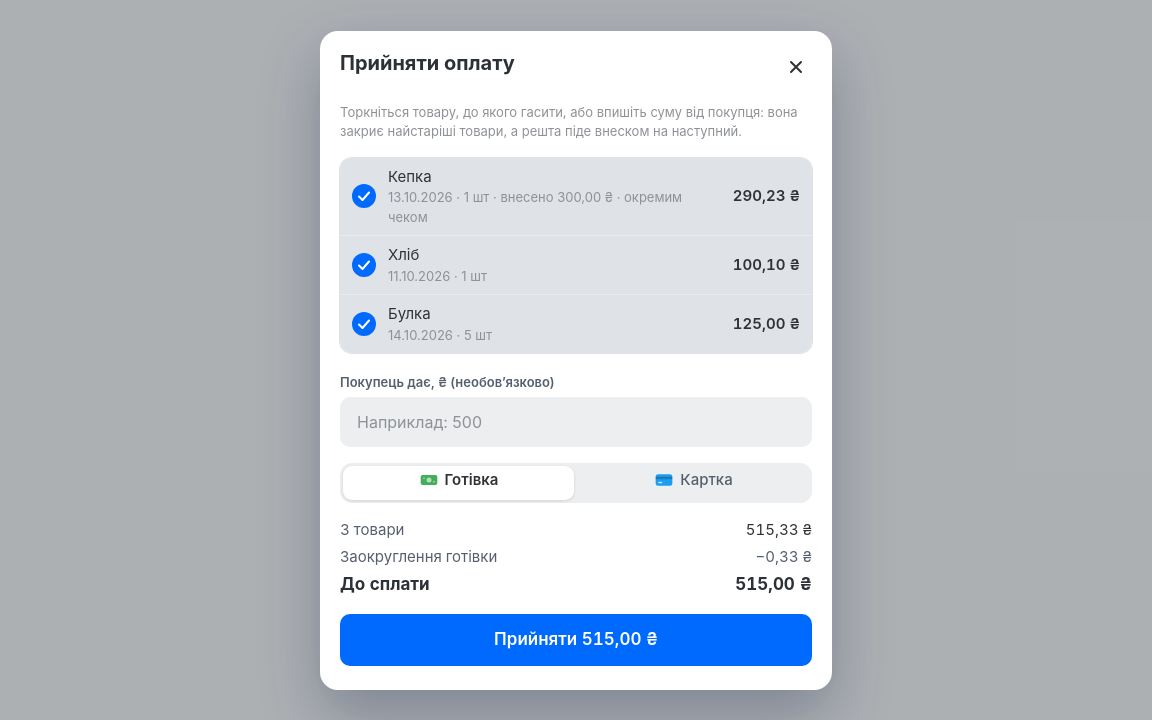
PaySheet in a store whose ПРРО keeps prepayment chains (G3_DEBTS.md §11 «Крок 2») › when one document of the sum stops, says what to hand back and offers the receipts that went through
This screenshot has width=1152, height=720.
Type "410" into the field with placeholder "Наприклад: 500" at (576, 422), box [340, 397, 812, 447]
(page scrolled)
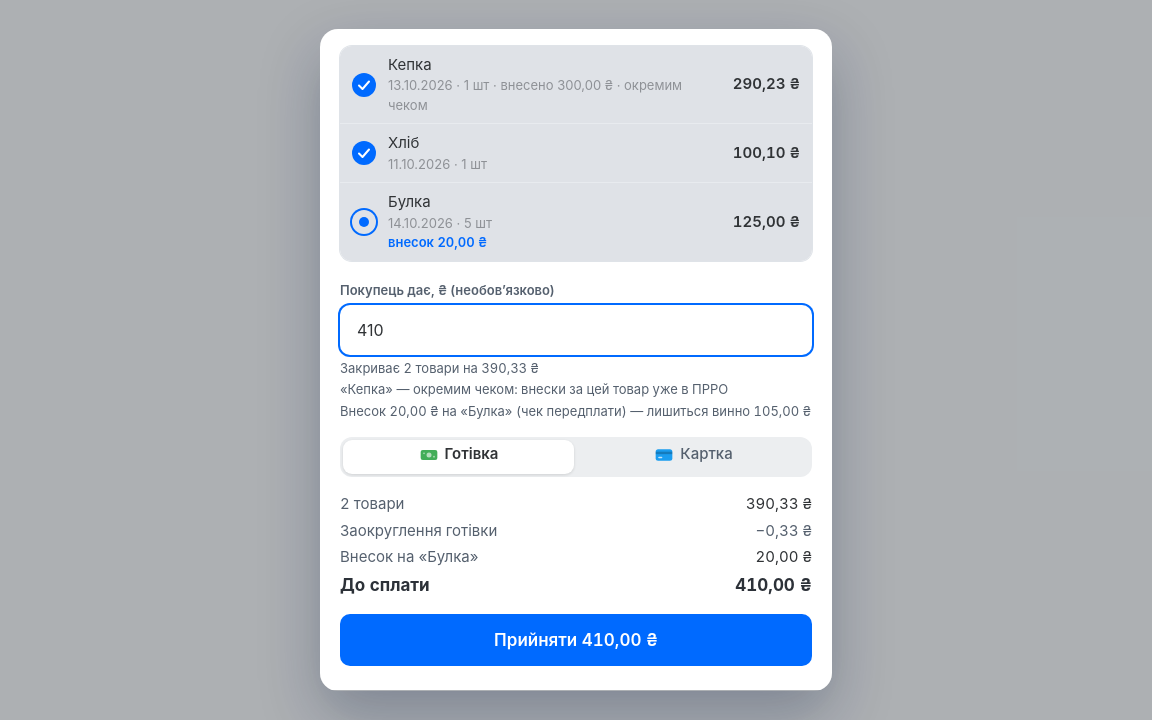
Click the button "Прийняти 410,00 ₴" at (576, 640), box [340, 614, 812, 666]
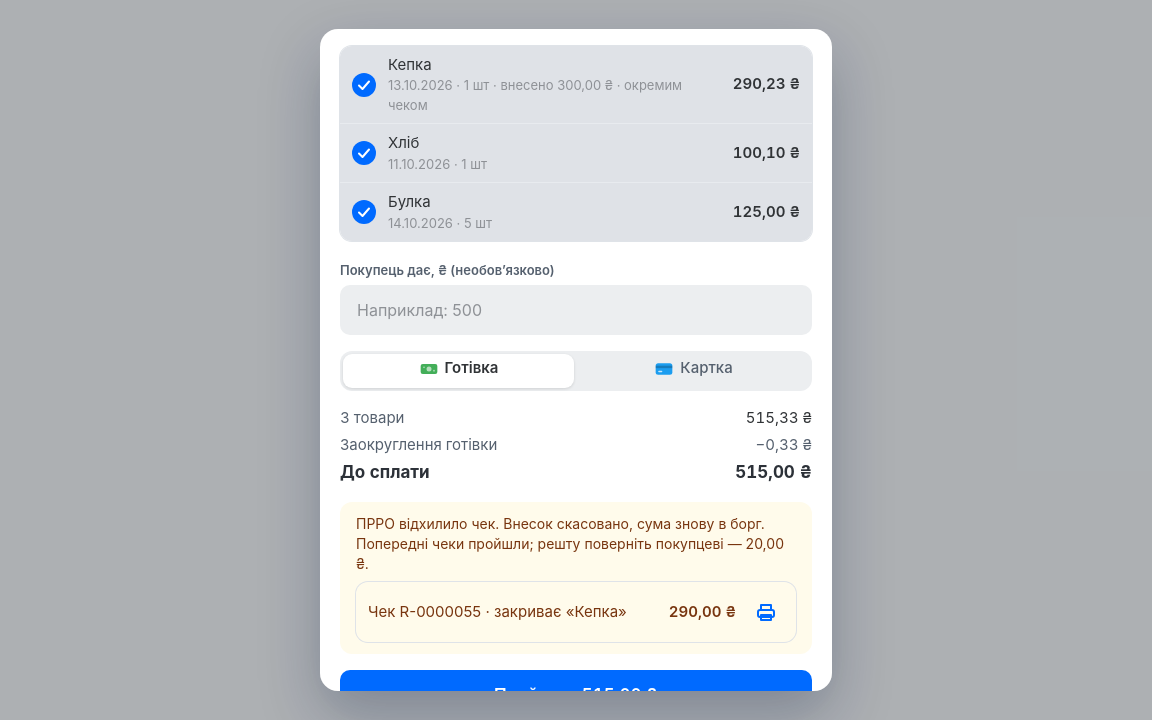
Expected: the message with test id "debts-pay-error" shows "решту поверніть покупцеві — 20,00 ₴", [356, 515, 784, 572]
Expected: the list with test id "debts-pay-through" shows "Чек R-0000055 · закриває «Кепка»", [368, 602, 627, 621]
Expected: the button named "Друкувати" is shown, [748, 590, 784, 634]
